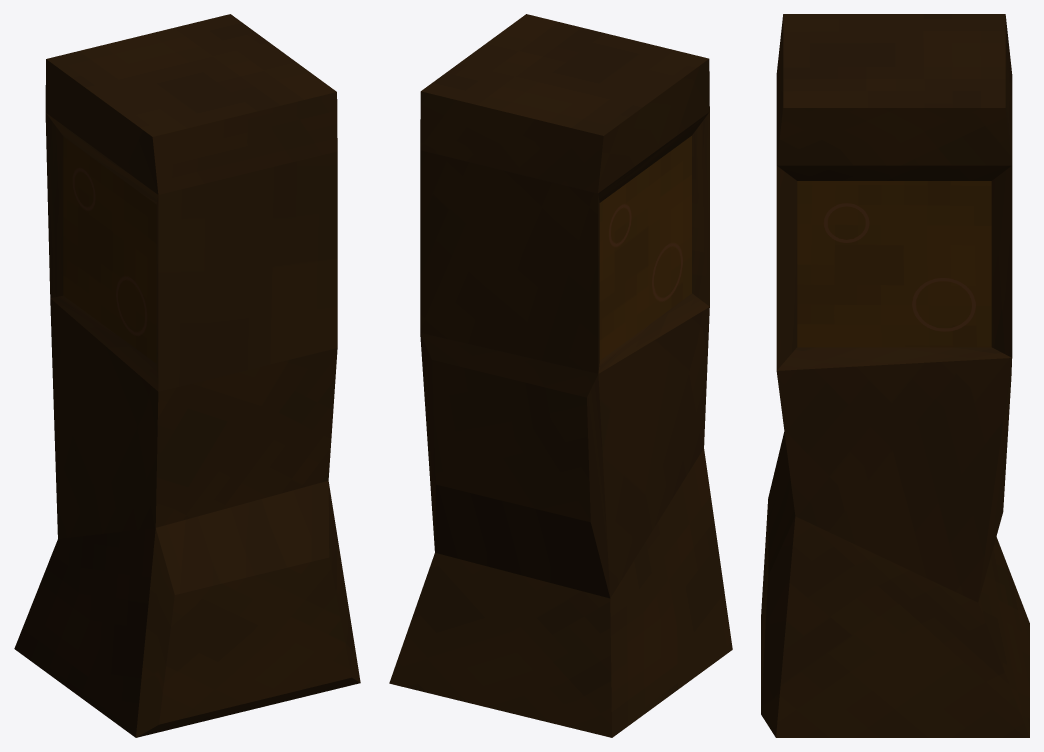
Rendered from DirtPillar.fbx.
3 renders of one model, left to right at view 1: azimuth 30°, elevation 25°; view 2: azimuth 150°, elevation 25°; view 3: azimuth 270°, elevation 25°, orthographic. The views are drawn at different scales.
Parts seen in each view (by area): view 1: DirtPillar, Pillar_Faces; view 2: DirtPillar, Pillar_Faces; view 3: DirtPillar, Pillar_Faces.
Part boxes in pixels (x1=…): DirtPillar: x1=14, y1=14, x2=360, y2=737; Pillar_Faces: x1=63, y1=136, x2=156, y2=363; DirtPillar: x1=389, y1=14, x2=732, y2=737; Pillar_Faces: x1=599, y1=136, x2=691, y2=360; DirtPillar: x1=761, y1=14, x2=1029, y2=737; Pillar_Faces: x1=797, y1=181, x2=991, y2=347.
Bounding box in the file's own units: 251 × 633 × 249.
1 material, 1 textured.
